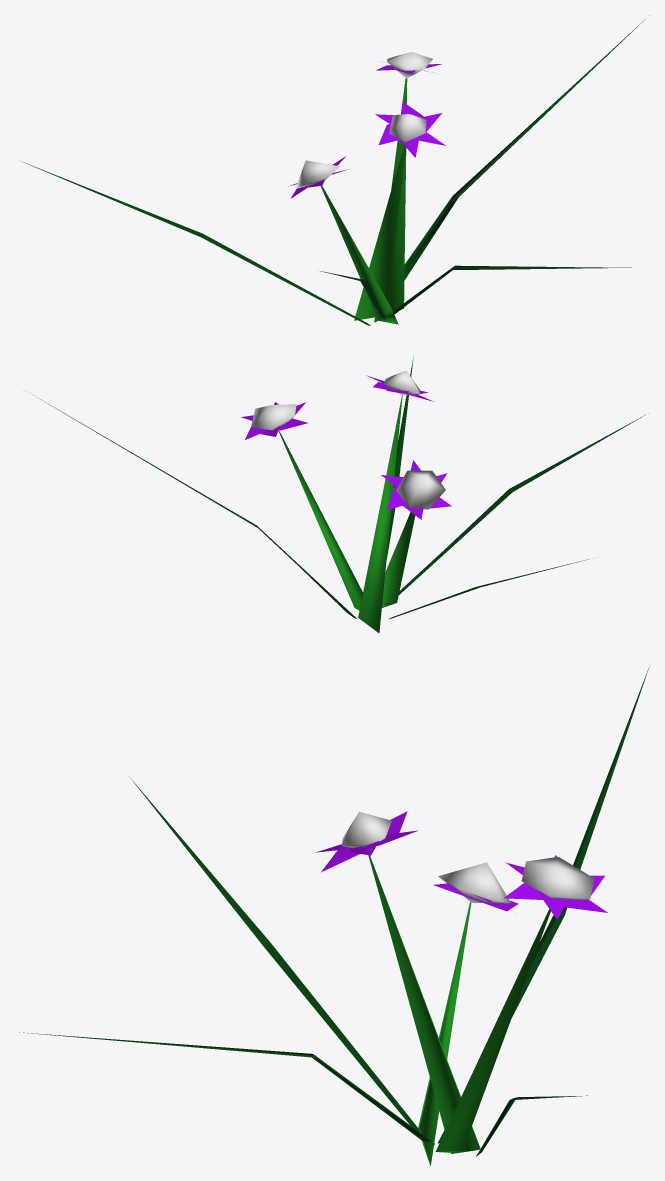
File: whSyrianRuePlant.glb
3 views of the same model, one above another, from view 1: azimuth 30°, elevation 25°; view 2: azimuth 150°, elevation 25°; view 3: azimuth 270°, elevation 25° (orthographic). The views are drawn at different scales.
Parts seen in each view (by area): view 1: Icosphere, Icosphere.001; view 2: Icosphere, Icosphere.001; view 3: Icosphere, Icosphere.001.
Boxes of the visible parts, x1,y1,x2,y2 form: Icosphere: (22,15,649,325); Icosphere.001: (288,52,445,198); Icosphere: (32,357,648,632); Icosphere.001: (241,370,451,519); Icosphere: (19,666,649,1165); Icosphere.001: (315,811,607,919).
Bounding box in the file's own units: 1.64 × 0.5953 × 0.9902.
